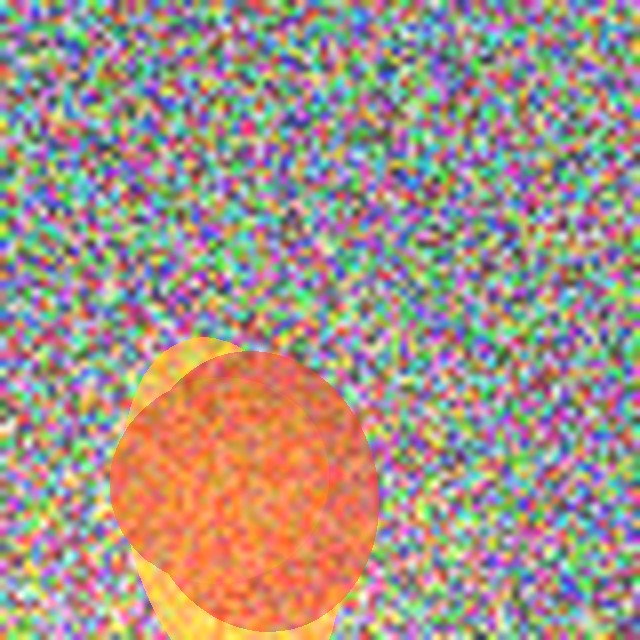fire: (109, 463, 371, 627)
